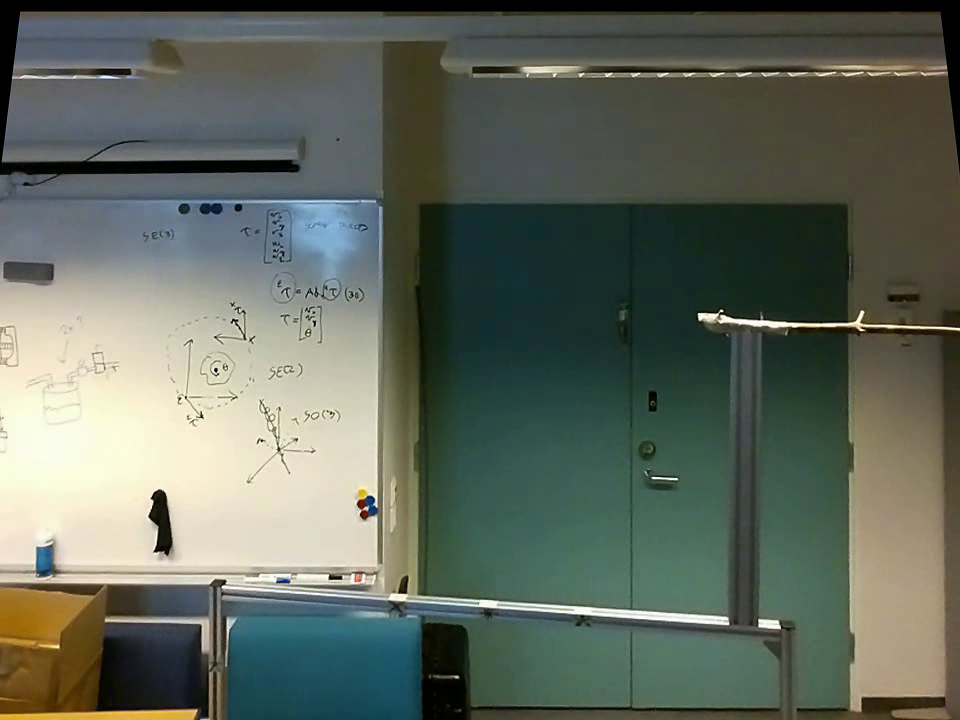aluminum_frame: (218, 573, 774, 647), (1, 558, 391, 595), (721, 335, 767, 623), (371, 193, 387, 574), (6, 190, 377, 206), (201, 577, 230, 718), (770, 618, 802, 718)
branch: (792, 303, 953, 344)
